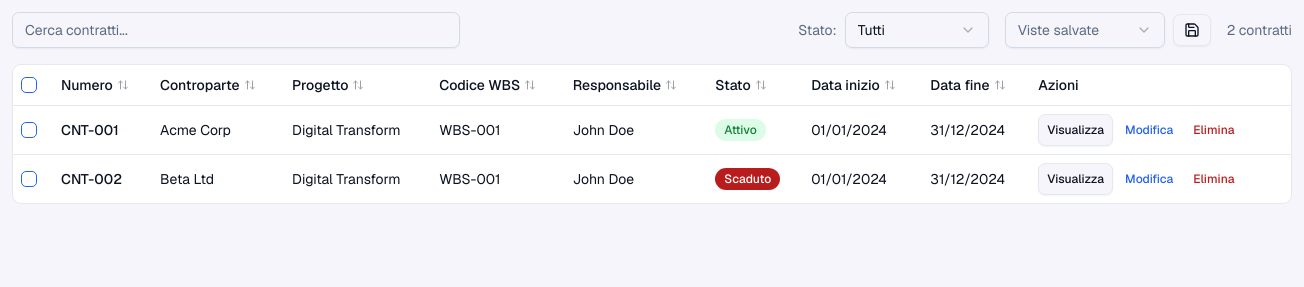
Test: ContractTable › shows the bulk action bar with a count when rows are selected
Step 1. Click the checkbox named "Seleziona contratto CNT-001" → (29, 130), box x1=21 y1=122 x2=37 y2=138
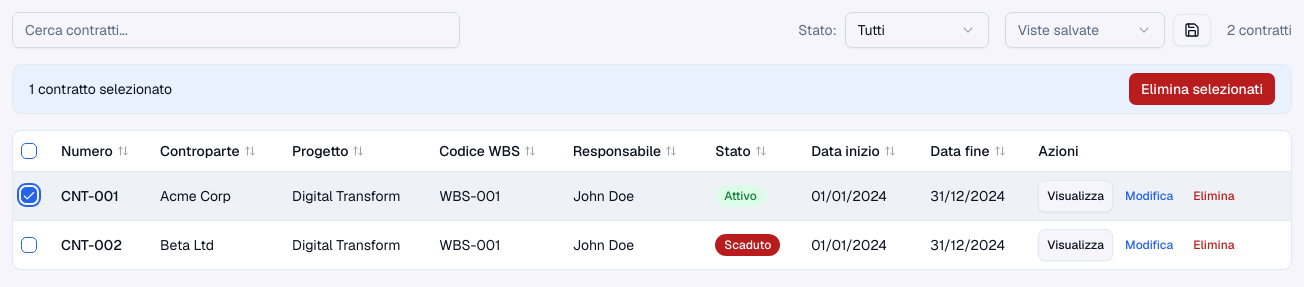
Expected: the text "1 contratto selezionato" is shown, x1=29 y1=79 x2=172 y2=99
Expected: the button "Elimina selezionati" is shown, x1=1129 y1=73 x2=1275 y2=105
